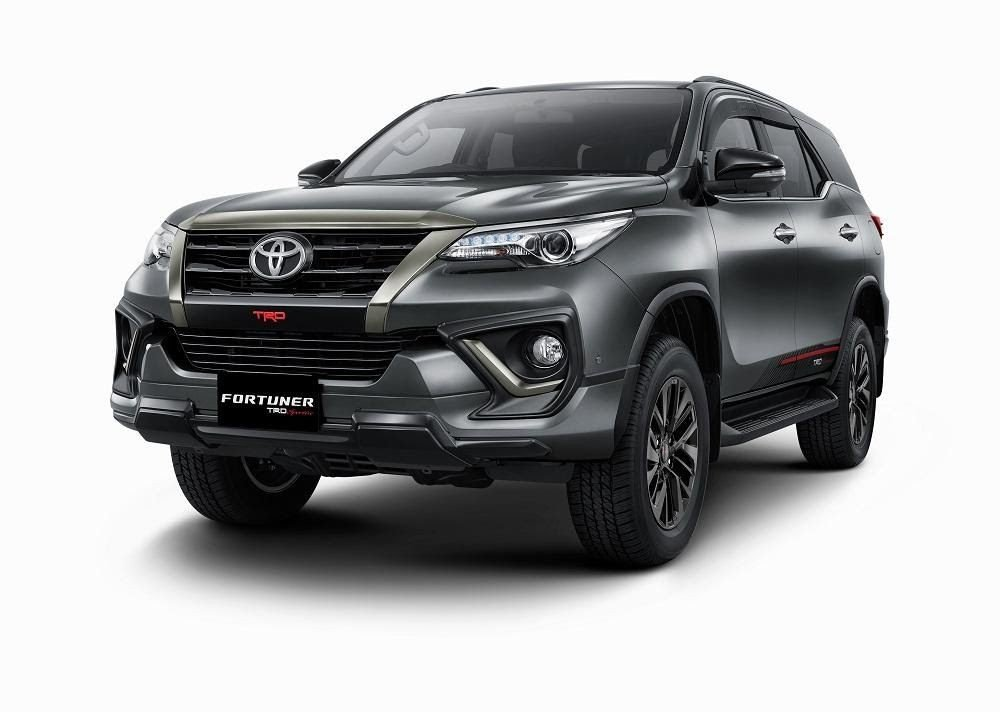mobil: (96, 44, 915, 571)
